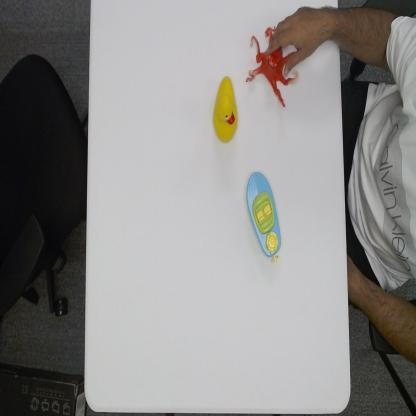Boat: (245, 169, 283, 266)
Duck: (212, 73, 239, 146)
Hand: (265, 6, 332, 78)
Octopus: (244, 25, 300, 111)
